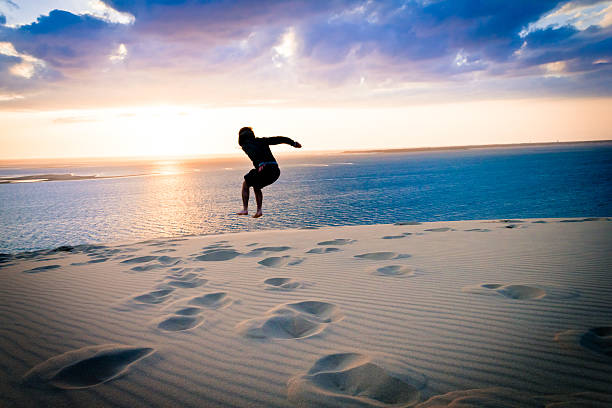human_footprint: (287, 352, 425, 407), (22, 344, 154, 389), (236, 300, 343, 339), (114, 267, 208, 310), (114, 267, 207, 310), (415, 387, 611, 407), (154, 292, 233, 331), (0, 244, 139, 265), (237, 314, 325, 339), (554, 326, 611, 362), (462, 283, 579, 299), (270, 300, 343, 322), (113, 287, 175, 311), (70, 244, 139, 265), (462, 283, 545, 299), (190, 240, 242, 261), (120, 255, 183, 271), (580, 326, 611, 356), (164, 267, 207, 287), (156, 314, 203, 331), (306, 238, 356, 253), (187, 292, 233, 308), (496, 284, 545, 299), (132, 288, 174, 304), (194, 248, 240, 261), (258, 255, 303, 267), (166, 274, 207, 287), (243, 245, 291, 256), (263, 277, 303, 290), (354, 251, 409, 260), (373, 265, 416, 276), (147, 237, 187, 246), (23, 264, 60, 273), (168, 267, 205, 276), (71, 257, 110, 265), (251, 245, 290, 253), (492, 219, 525, 228), (121, 255, 157, 263), (130, 263, 165, 271), (317, 238, 356, 245), (202, 240, 231, 249), (157, 255, 180, 266), (174, 306, 202, 315), (559, 217, 609, 222), (306, 247, 341, 253), (147, 240, 178, 246), (0, 256, 14, 268), (493, 219, 524, 223), (381, 234, 405, 239), (152, 248, 175, 253), (425, 227, 452, 231), (394, 221, 421, 225), (464, 228, 490, 231), (299, 225, 318, 229), (500, 224, 518, 228), (235, 209, 248, 214), (252, 211, 262, 217), (246, 242, 258, 246), (532, 220, 547, 223)
